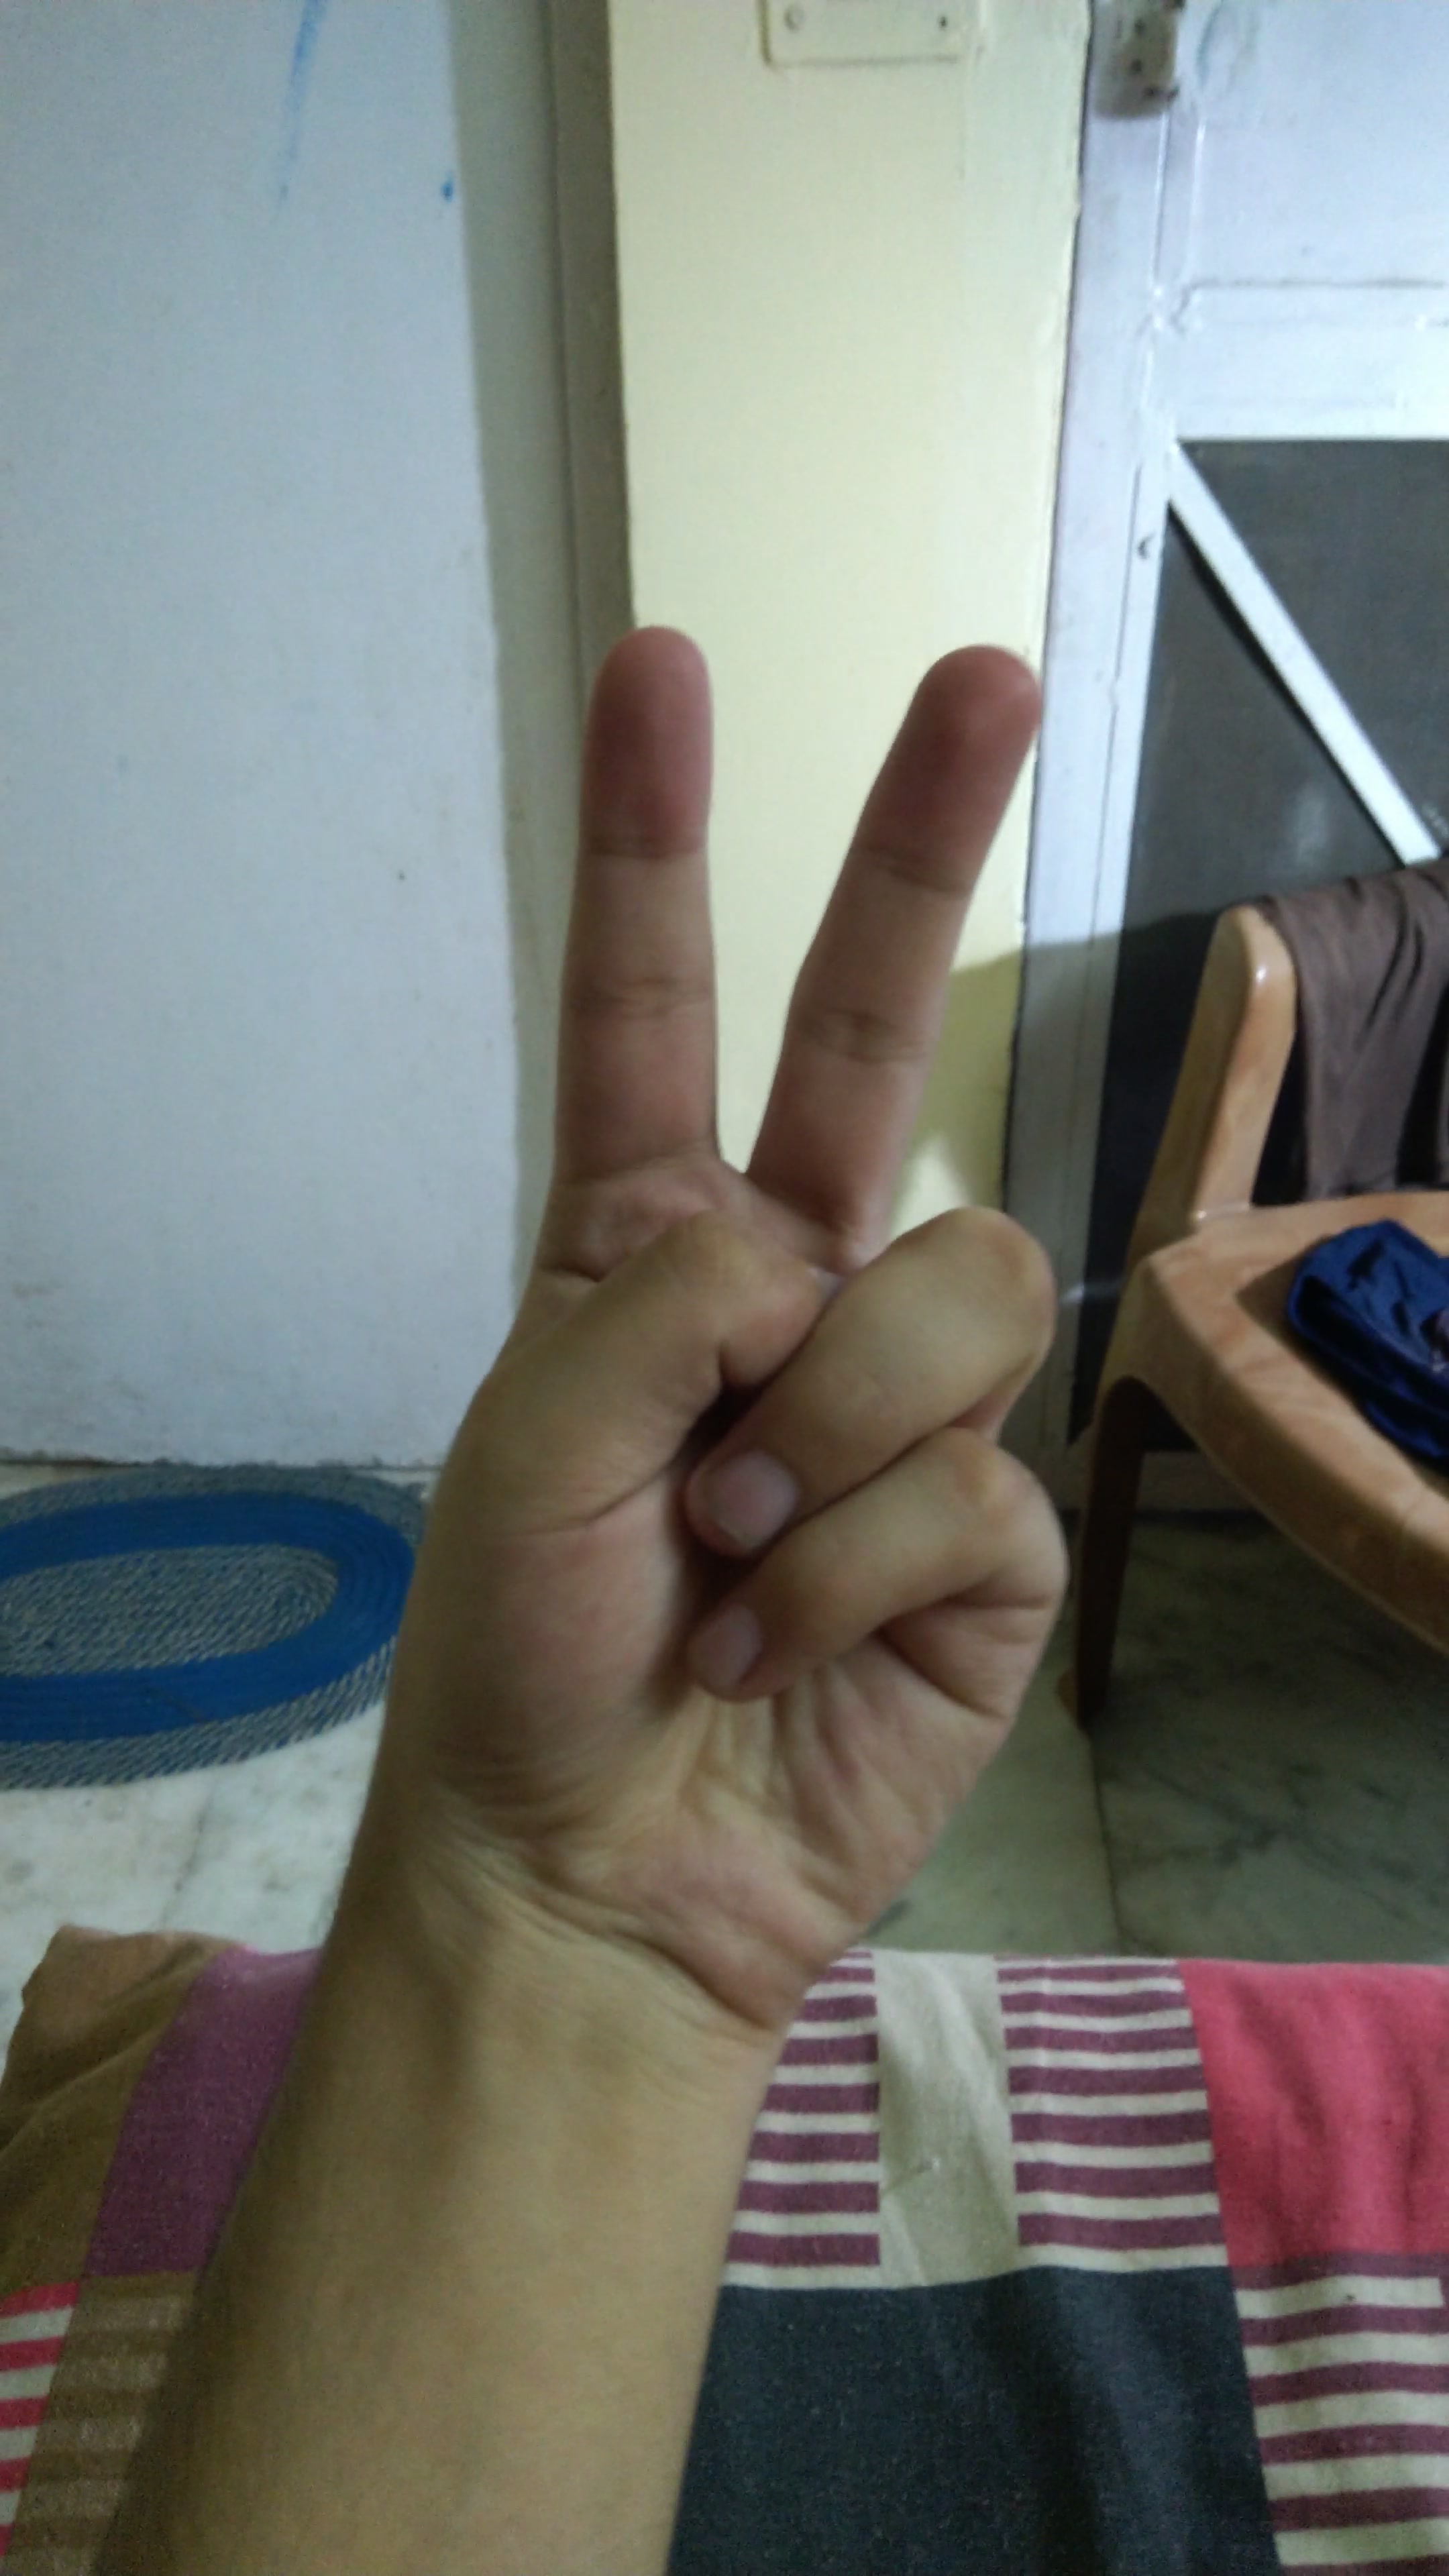hand: (287, 582, 1154, 2070)
